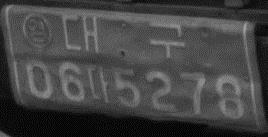0: (23, 57, 54, 101)
2: (144, 68, 177, 112)
5: (111, 65, 141, 108)
6: (56, 61, 85, 102)
7: (180, 71, 208, 118)
8: (214, 72, 246, 120)
다: (84, 62, 112, 104)
대구_D: (59, 12, 186, 60)
영: (21, 12, 54, 49)
